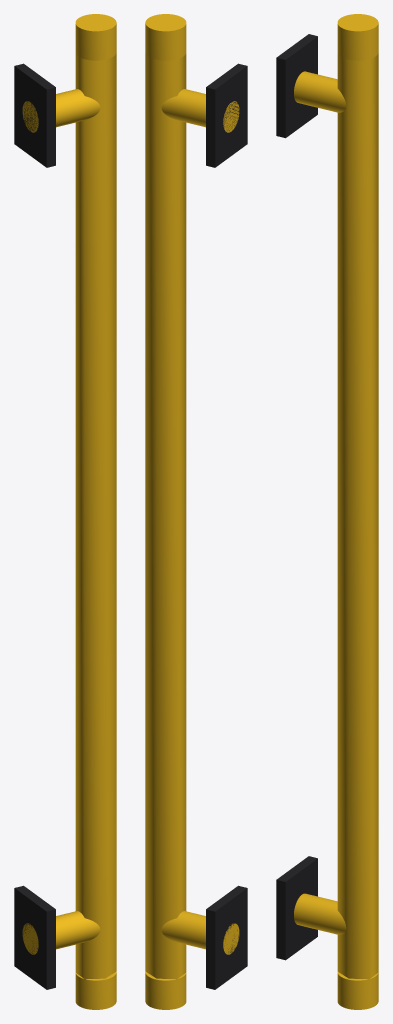
Rendered from struct03_ladder_handrail_handrail_1.glb.
3 renders of one model, left to right at view 1: azimuth 30°, elevation 25°; view 2: azimuth 150°, elevation 25°; view 3: azimuth 330°, elevation 25°, orthographic.
Visible parts, largest first — view 1: handrail, mount_pads, standoffs; view 2: handrail, mount_pads, standoffs; view 3: handrail, mount_pads, standoffs.
Part boxes in pixels (left/top/right/bottom): handrail: left=75, top=14, right=116, bottom=1009; mount_pads: left=14, top=63, right=55, bottom=989; standoffs: left=22, top=89, right=100, bottom=954; handrail: left=145, top=14, right=186, bottom=1009; mount_pads: left=206, top=63, right=247, bottom=989; standoffs: left=161, top=89, right=239, bottom=954; handrail: left=337, top=14, right=378, bottom=1009; mount_pads: left=276, top=34, right=317, bottom=960; standoffs: left=294, top=71, right=346, bottom=934.
Size of the model in its own units: 0.089 by 1 by 0.06.
